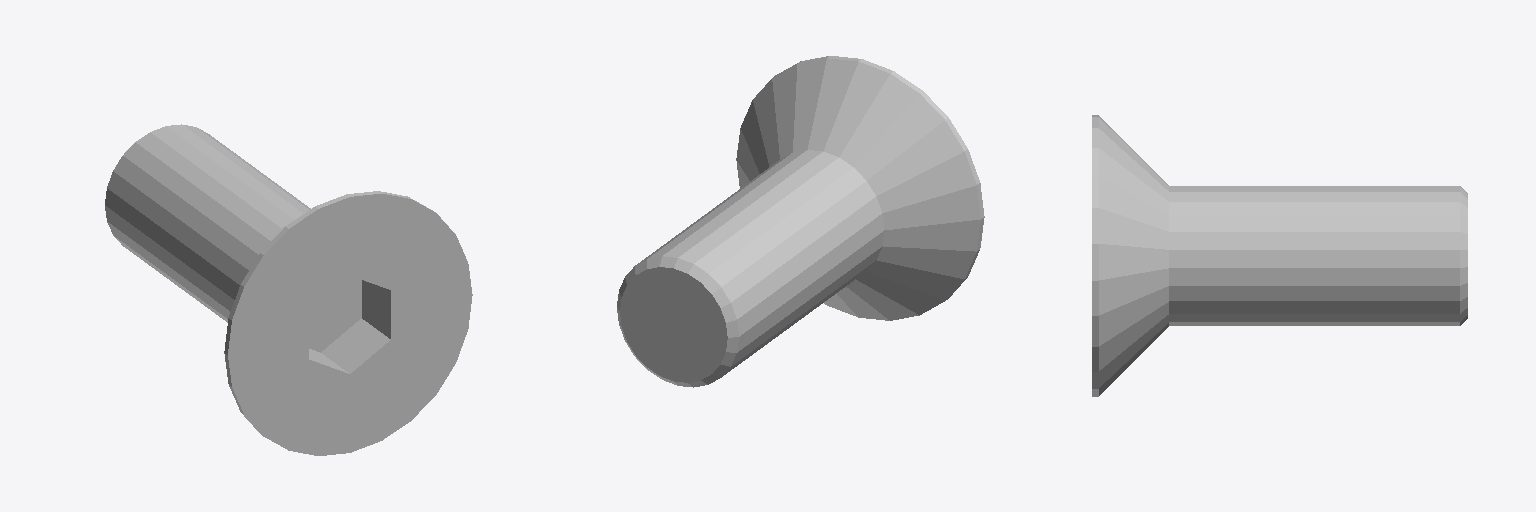
File: FlexLink MF6S 6X16.obj
3 views of the same model, side by side, from view 1: azimuth 30°, elevation 25°; view 2: azimuth 150°, elevation 25°; view 3: azimuth 270°, elevation 25° (orthographic).
Bounding box in the file's own units: 12 × 12 × 16.